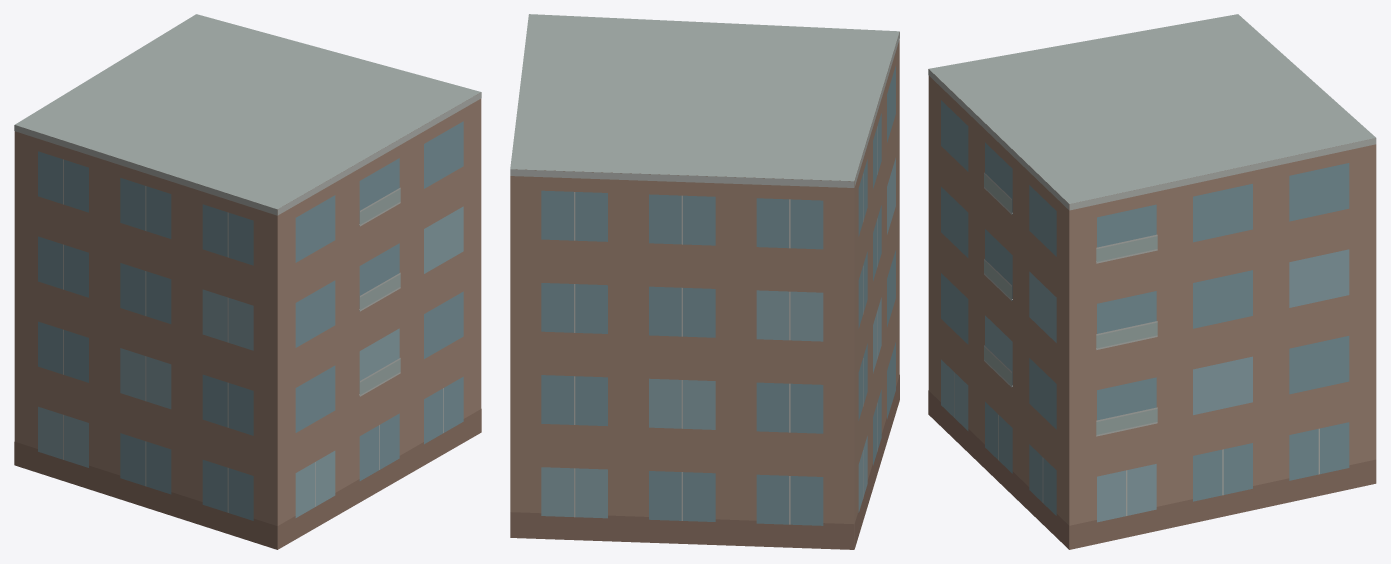
Rendered from survey-upis-32606360.glb.
3 views of the same model, side by side, from view 1: azimuth 30°, elevation 25°; view 2: azimuth 150°, elevation 25°; view 3: azimuth 270°, elevation 25° (orthographic). The views are drawn at different scales.
Parts seen in each view (by area): view 1: survey-upis-32606360.tmp; view 2: survey-upis-32606360.tmp; view 3: survey-upis-32606360.tmp.
Boxes of the visible parts, x1,y1,x2,y2 form: survey-upis-32606360.tmp: (14,14,481,549); survey-upis-32606360.tmp: (510,14,899,549); survey-upis-32606360.tmp: (928,14,1376,549).
Bounding box in the file's own units: 15.58 × 13.2 × 15.51.
